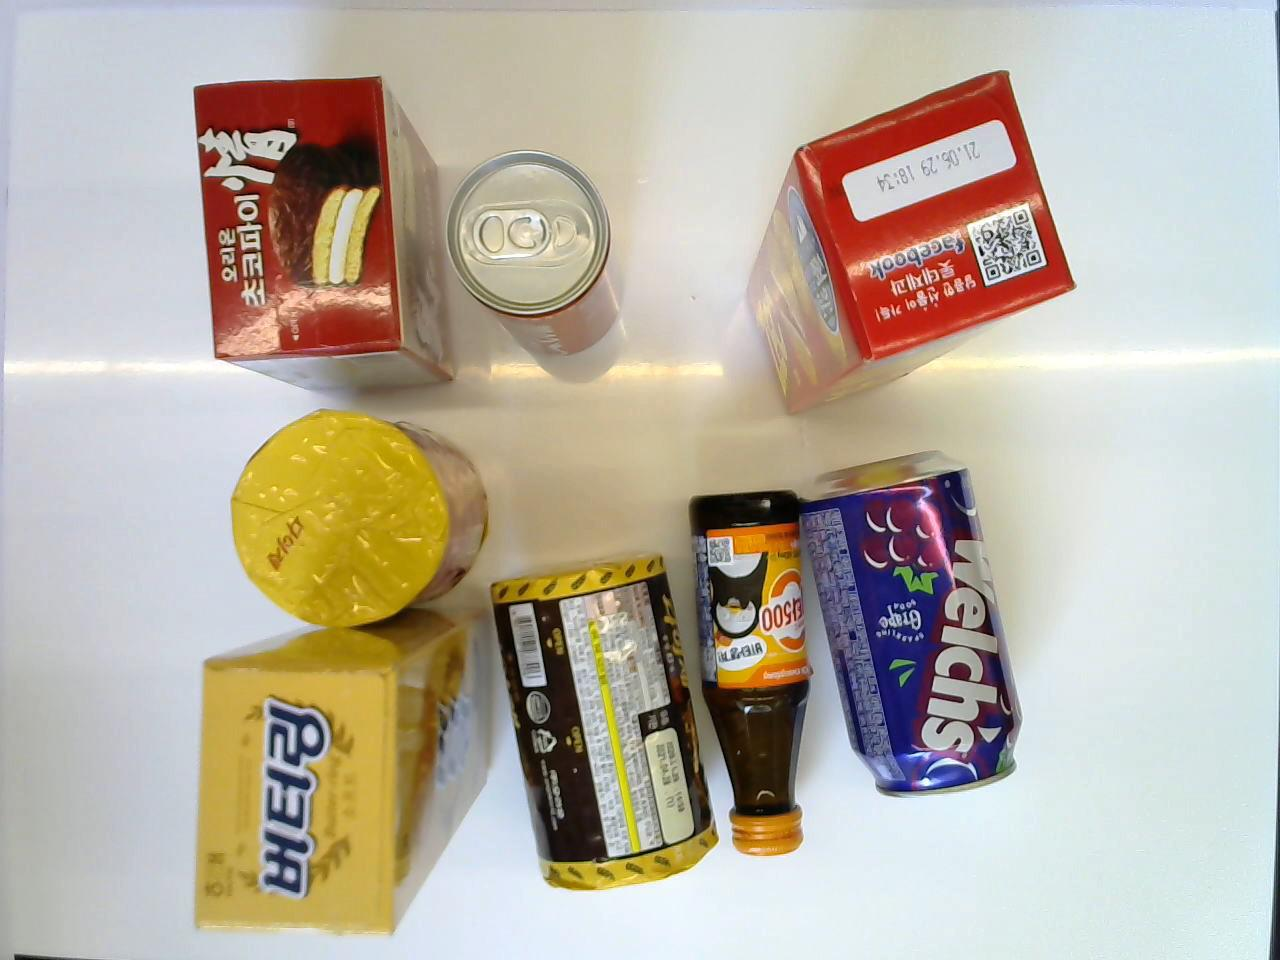buttering: (191, 612, 493, 937)
chocopie: (188, 73, 453, 402)
coke: (445, 146, 637, 361)
diget_choco: (488, 550, 719, 894)
diget_ori: (226, 410, 484, 632)
vita500: (683, 486, 814, 862)
welchs: (797, 452, 1034, 805)
zec: (745, 66, 1076, 425)
